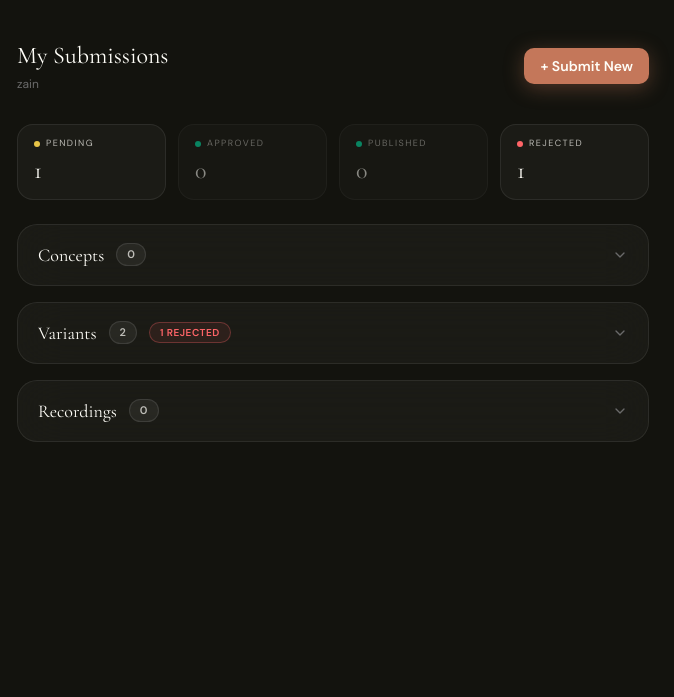
MySubmissions page — sections › lists variants with their status badge and the moderator note on a rejected one
Click the button "Variants 2 1 rejected": (67, 332) [18,302,648,362]
(page scrolled)
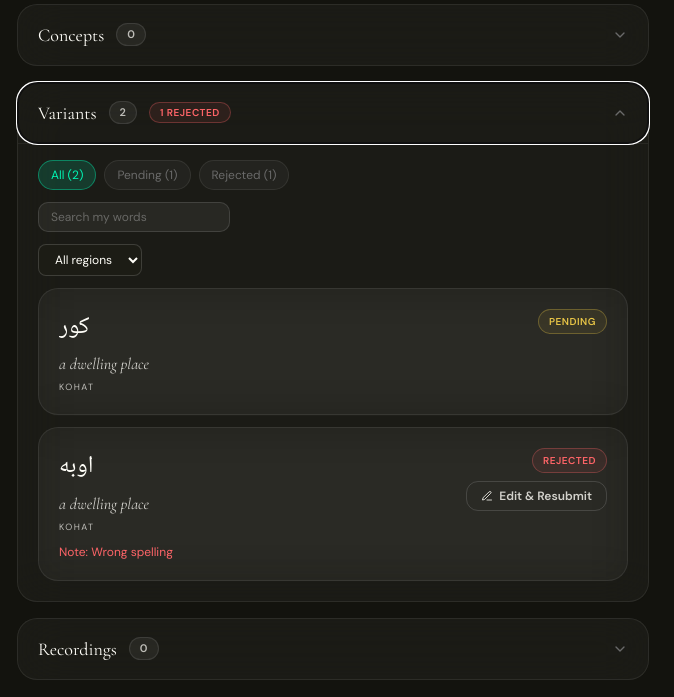
Result: the text "کور" is shown at [59,308,90,348]
Result: the text "اوبه" is shown at [59,448,93,487]
Result: the text "Note: Wrong spelling" is shown at [59,544,173,560]
